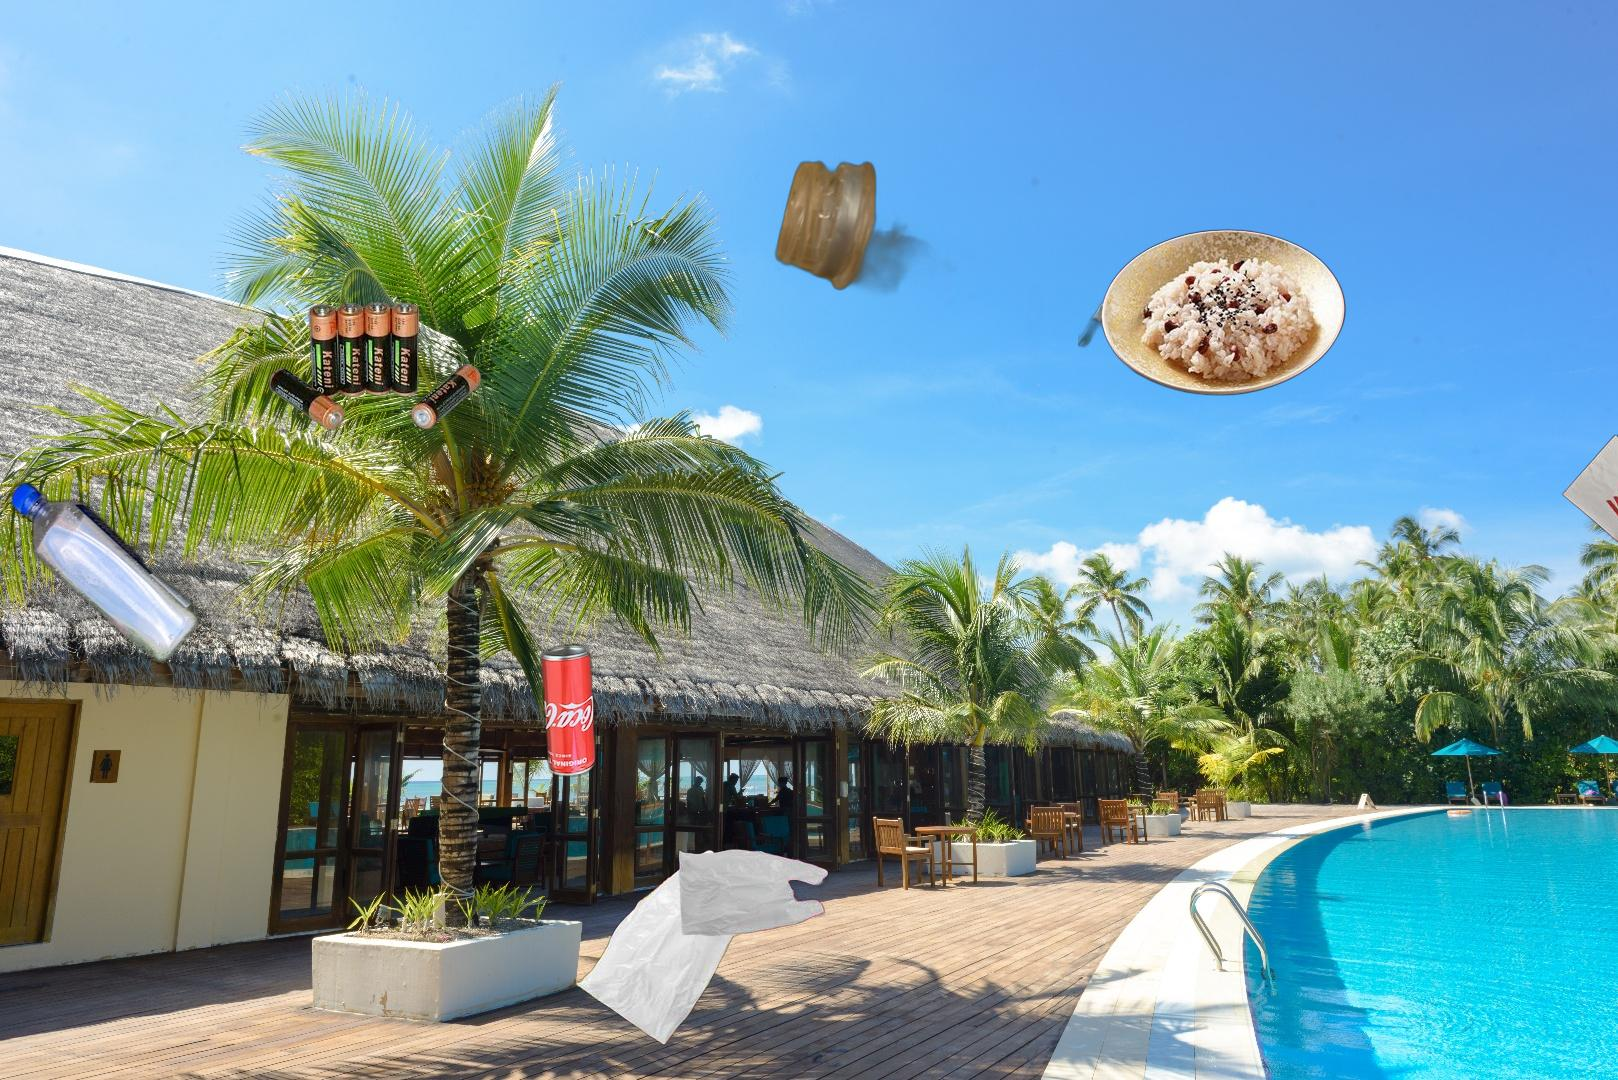battery: (266, 299, 484, 433)
biological: (1078, 117, 1347, 397)
metal-cans: (536, 638, 600, 783)
paper-bag: (1561, 363, 1618, 569)
plastic-bag: (572, 846, 832, 1046)
plastic-bottles: (773, 157, 1044, 364), (7, 478, 206, 668)
